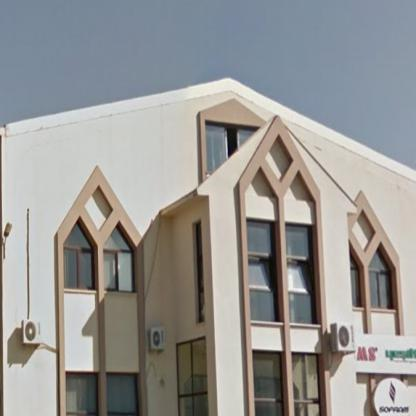window: (248, 218, 280, 320), (286, 225, 317, 323), (207, 122, 257, 177), (177, 339, 208, 415), (253, 350, 283, 415), (63, 223, 93, 287), (105, 226, 134, 291), (293, 353, 320, 415), (370, 249, 392, 306), (67, 375, 98, 415), (108, 374, 135, 414), (350, 249, 362, 306)
